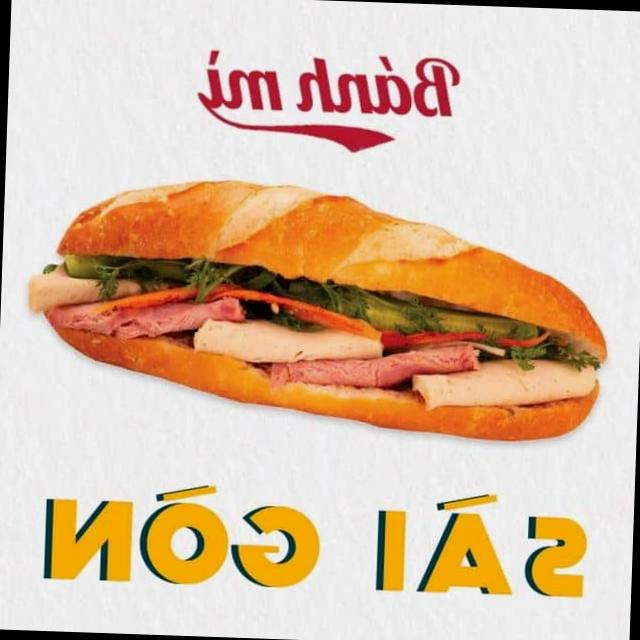banh mi: (29, 181, 606, 439)
